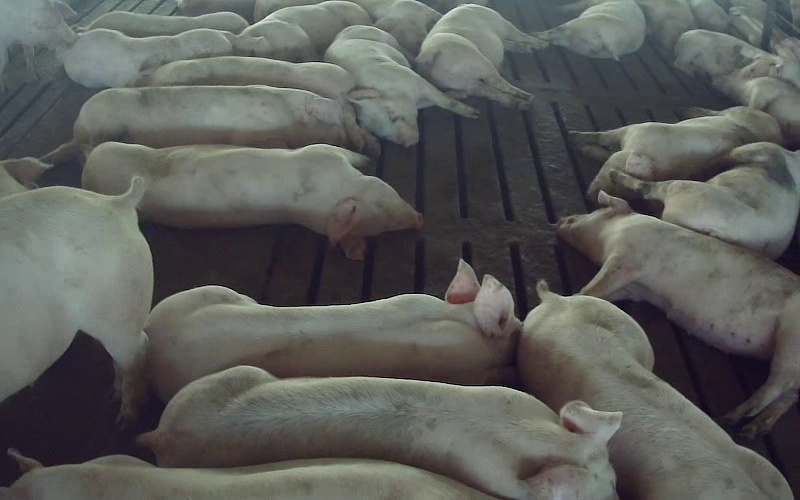pig: (139, 366, 621, 499), (558, 192, 799, 436), (146, 260, 520, 400), (82, 142, 422, 258), (0, 178, 152, 423), (611, 143, 799, 258), (73, 85, 376, 151), (570, 107, 782, 197), (324, 26, 477, 146), (416, 4, 546, 109), (63, 28, 235, 87), (135, 56, 354, 99), (233, 0, 370, 61), (712, 57, 799, 148), (534, 0, 645, 59), (674, 29, 771, 77)
